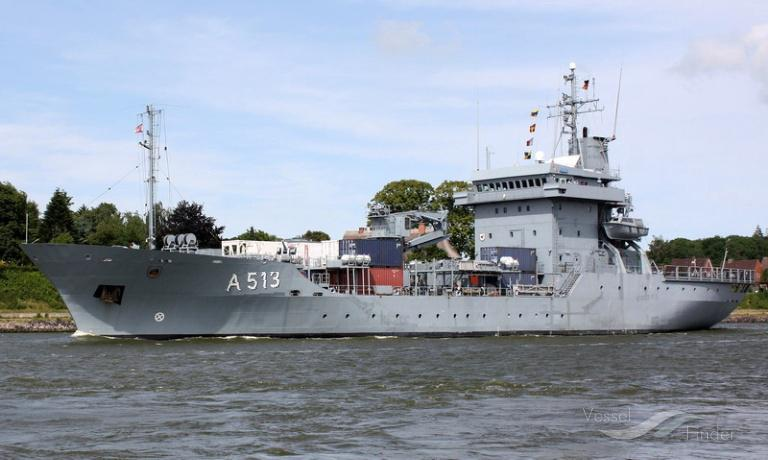OCR: (218, 272, 285, 300)
